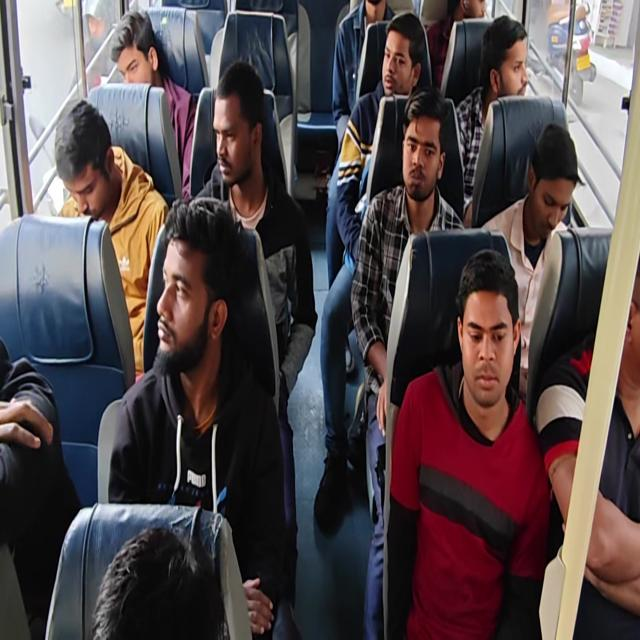person: (153, 196, 248, 406), (92, 521, 248, 640), (458, 242, 526, 429), (208, 48, 276, 223), (53, 96, 119, 217), (525, 118, 590, 240), (402, 72, 456, 217), (480, 14, 545, 128), (103, 2, 171, 107), (604, 240, 640, 406), (376, 13, 426, 102), (450, 0, 500, 28), (361, 0, 407, 22)
